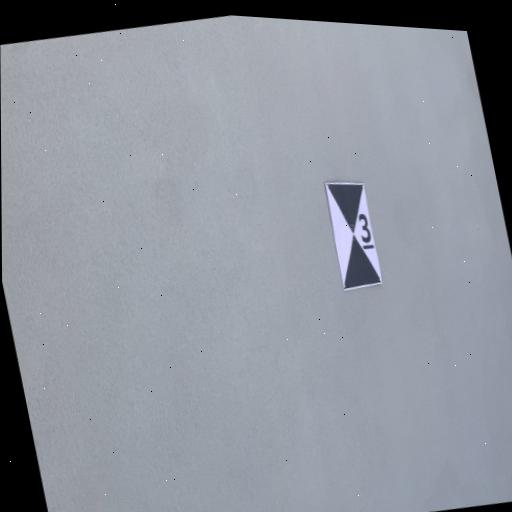target3: (325, 182, 383, 294)
